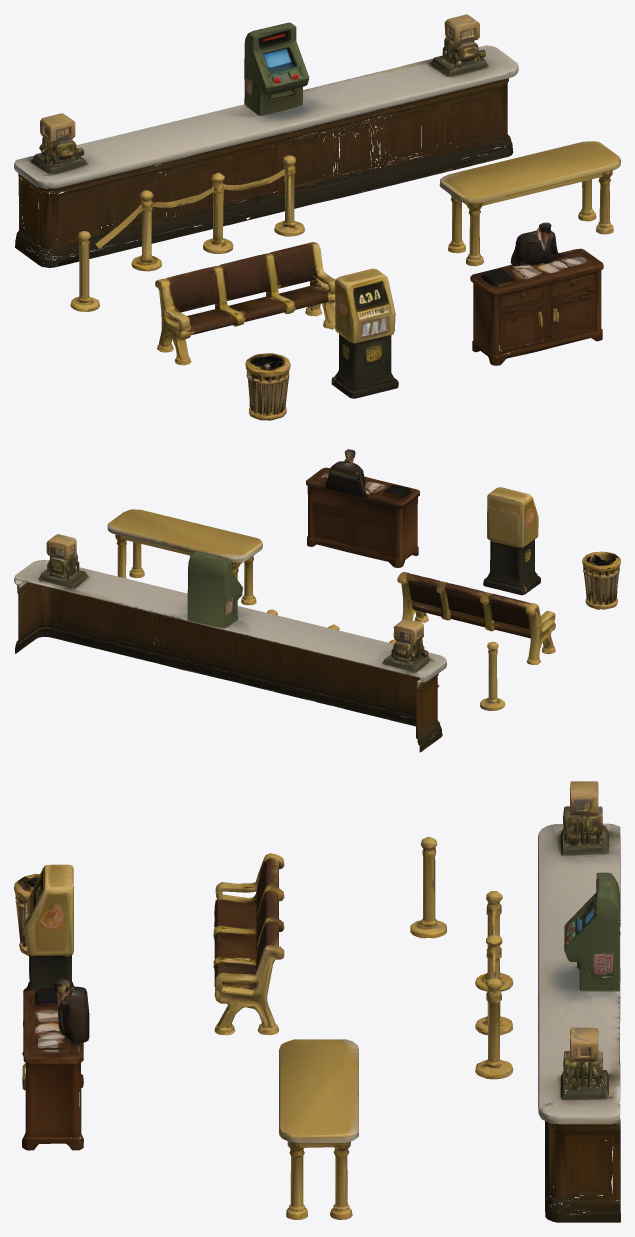
File: env-ministry-furniture.glb
3 renders of one model, top to bottom at view 1: azimuth 30°, elevation 25°; view 2: azimuth 150°, elevation 25°; view 3: azimuth 270°, elevation 25°, orthographic. The views are drawn at different scales.
Visible parts, largest first — view 1: env-ministry-furniture; view 2: env-ministry-furniture; view 3: env-ministry-furniture.
Part boxes in pixels (box(x1,y1,x2,y2)): env-ministry-furniture: box(14, 14, 620, 420); env-ministry-furniture: box(14, 449, 620, 752); env-ministry-furniture: box(14, 781, 620, 1222).
Bounding box in the file's own units: 13.26 × 4.21 × 11.25.
1 material, 1 textured.
